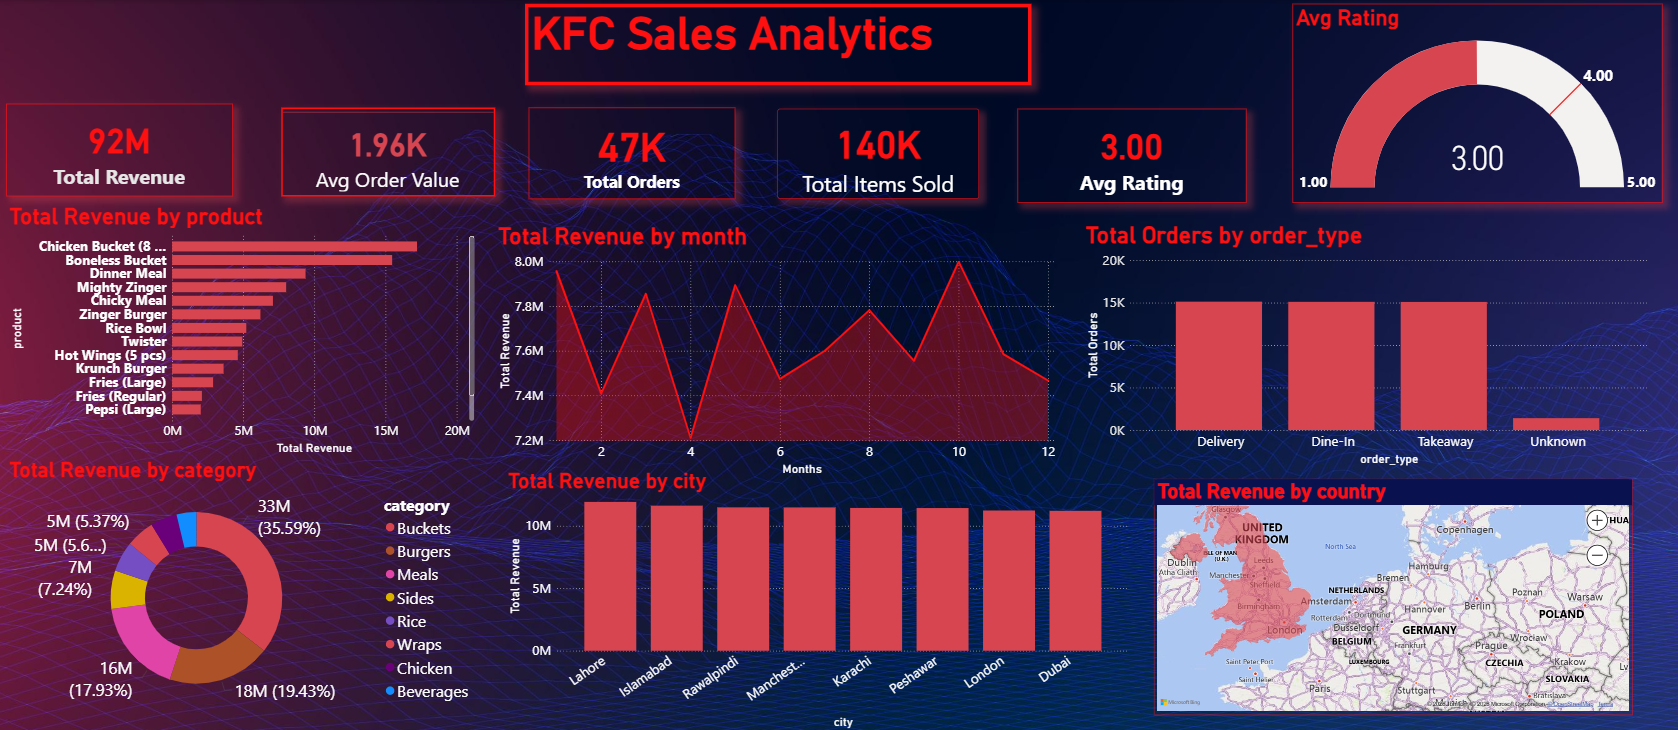

What the dashboard file says about the page in this screenshot:
{"tool":"powerbi","page":{"name":"Page 1","canvas":[2700,3000],"ordinal":0},"visuals":[{"type":"areaChart","fields":{"Category":["kfc_sales_clean.month"],"Y":["kfc_sales_clean.Total Revenue"]},"box":[792,508,902,410],"z":0},{"type":"barChart","fields":{"Category":["kfc_sales_clean.product"],"Y":["kfc_sales_clean.Total Revenue"]},"box":[10,476,754,408],"z":1},{"type":"donutChart","fields":{"Category":["kfc_sales_clean.category"],"Y":["kfc_sales_clean.Total Revenue"]},"box":[10,884,754,412],"z":2},{"type":"columnChart","fields":{"Category":["kfc_sales_clean.city"],"Y":["kfc_sales_clean.Total Revenue"]},"box":[808,902,1004,420],"z":3},{"type":"columnChart","fields":{"Category":["kfc_sales_clean.order_type"],"Y":["kfc_sales_clean.Total Orders"]},"box":[1732,506,910,396],"z":5},{"type":"card","fields":{"Values":["kfc_sales_clean.Total Items Sold"]},"box":[1244,326,322,144],"z":6},{"type":"card","fields":{"Values":["kfc_sales_clean.Total Revenue"]},"box":[10,318,362,148],"z":7},{"type":"card","fields":{"Values":["kfc_sales_clean.Avg Order Value"]},"box":[450,324,342,142],"z":8},{"type":"card","fields":{"Values":["kfc_sales_clean.Total Orders"]},"box":[846,324,330,146],"z":9},{"type":"card","fields":{"Values":["kfc_sales_clean.Avg Rating"]},"box":[1628,326,366,150],"z":10},{"type":"gauge","fields":{"Y":["kfc_sales_clean.Avg Rating"]},"box":[2068,158,592,318],"z":11},{"type":"textbox","title":"KFC Sales Analytics","box":[840,158,810,130],"z":12},{"type":"filledMap","fields":{"Category":["kfc_sales_clean.country"]},"box":[1846,918,766,378],"z":13}]}

Visuals, with their boxes on the page's 2700x3000 design canvas (x1, y1, x2, y2). These are canvas units, not pixel positions in the 1678x730 screenshot, which may show the page scaled, cropped or inside an application window:
areaChart - kfc_sales_clean.month x kfc_sales_clean.Total Revenue: box(792, 508, 1694, 918)
barChart - kfc_sales_clean.product x kfc_sales_clean.Total Revenue: box(10, 476, 764, 884)
donutChart - kfc_sales_clean.category x kfc_sales_clean.Total Revenue: box(10, 884, 764, 1296)
columnChart - kfc_sales_clean.city x kfc_sales_clean.Total Revenue: box(808, 902, 1812, 1322)
columnChart - kfc_sales_clean.order_type x kfc_sales_clean.Total Orders: box(1732, 506, 2642, 902)
card - kfc_sales_clean.Total Items Sold: box(1244, 326, 1566, 470)
card - kfc_sales_clean.Total Revenue: box(10, 318, 372, 466)
card - kfc_sales_clean.Avg Order Value: box(450, 324, 792, 466)
card - kfc_sales_clean.Total Orders: box(846, 324, 1176, 470)
card - kfc_sales_clean.Avg Rating: box(1628, 326, 1994, 476)
gauge - kfc_sales_clean.Avg Rating: box(2068, 158, 2660, 476)
"KFC Sales Analytics" textbox: box(840, 158, 1650, 288)
filledMap - kfc_sales_clean.country: box(1846, 918, 2612, 1296)
